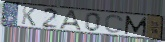0: (84, 12, 102, 33)
2: (41, 7, 59, 30)
A: (58, 9, 84, 33)
C: (104, 14, 125, 34)
K: (20, 6, 38, 27)
M: (124, 15, 148, 37)
